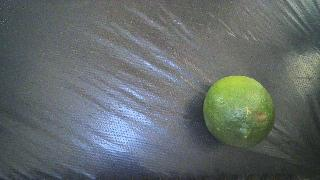DESECHO: (203, 76, 275, 148)
